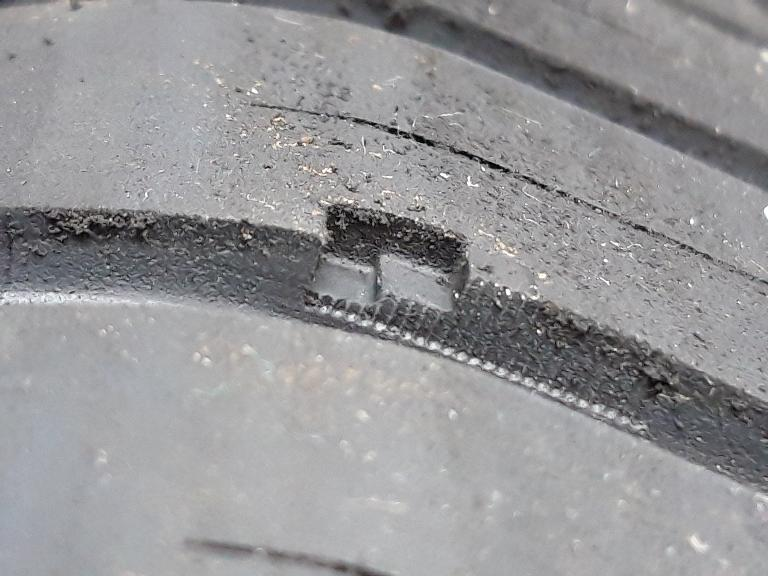temoin:50: (290, 193, 548, 385)
